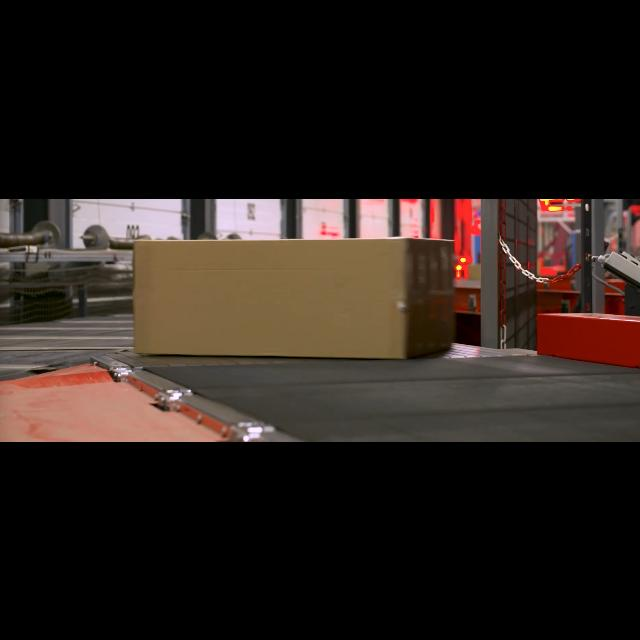box: (130, 234, 458, 360)
